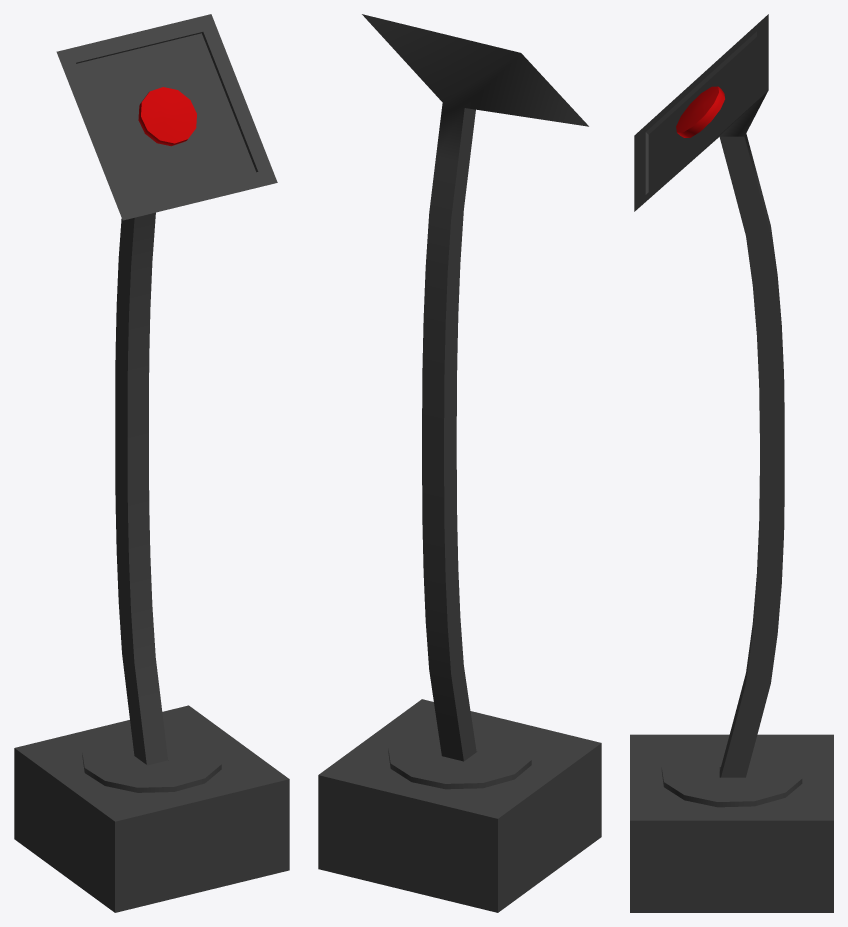
Rendered from ButtonOnaStand.fbx.
3 views of the same model, side by side, from view 1: azimuth 30°, elevation 25°; view 2: azimuth 150°, elevation 25°; view 3: azimuth 270°, elevation 25° (orthographic). The views are drawn at different scales.
Visible parts, largest first — view 1: Cube; view 2: Cube; view 3: Cube.
Part boxes in pixels (left/top/right/bottom): Cube: left=14, top=14, right=289, bottom=912; Cube: left=318, top=14, right=601, bottom=912; Cube: left=630, top=14, right=833, bottom=912.
Size of the model in its own units: 200 by 886 by 200.
